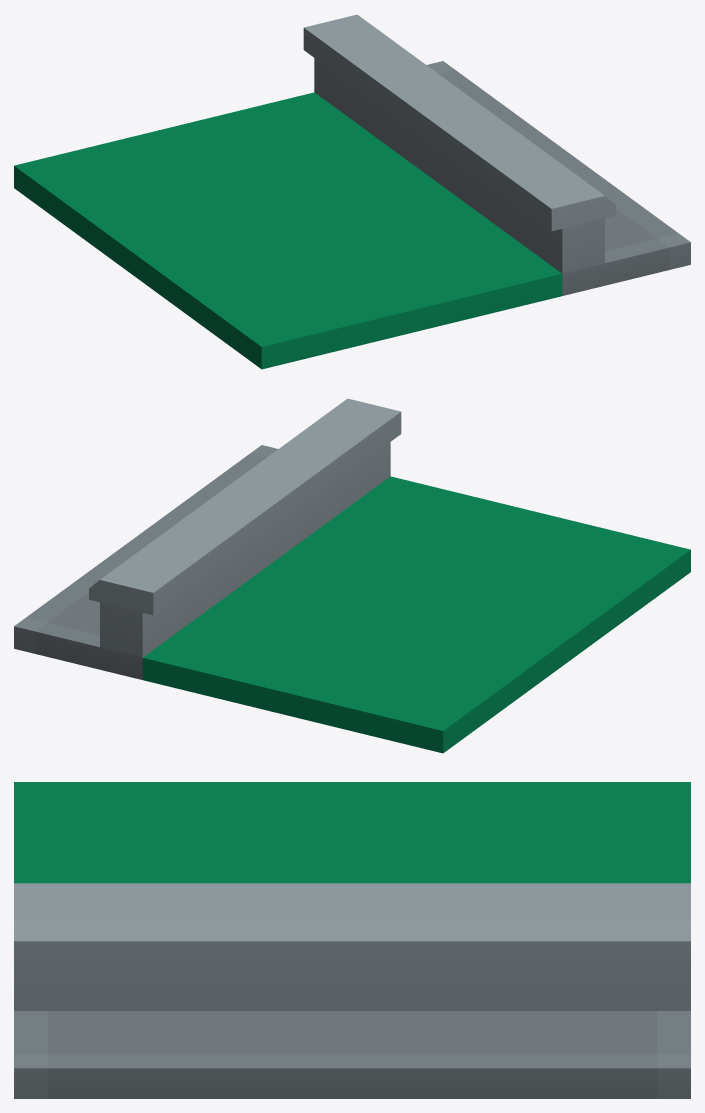
Rendered from park_wall_straight.glb.
3 renders of one model, top to bottom at view 1: azimuth 30°, elevation 25°; view 2: azimuth 150°, elevation 25°; view 3: azimuth 270°, elevation 25°, orthographic. The views are drawn at different scales.
Visible parts, largest first — view 1: park_wall_straight; view 2: park_wall_straight; view 3: park_wall_straight.
Boxes of the visible parts, box(x1,y1,x2,y2) form: park_wall_straight: box(14, 14, 690, 369); park_wall_straight: box(14, 398, 690, 753); park_wall_straight: box(14, 782, 690, 1098).
Bounding box in the file's own units: 2 × 0.4 × 2.
Materials: 1 (1 with a texture image).
